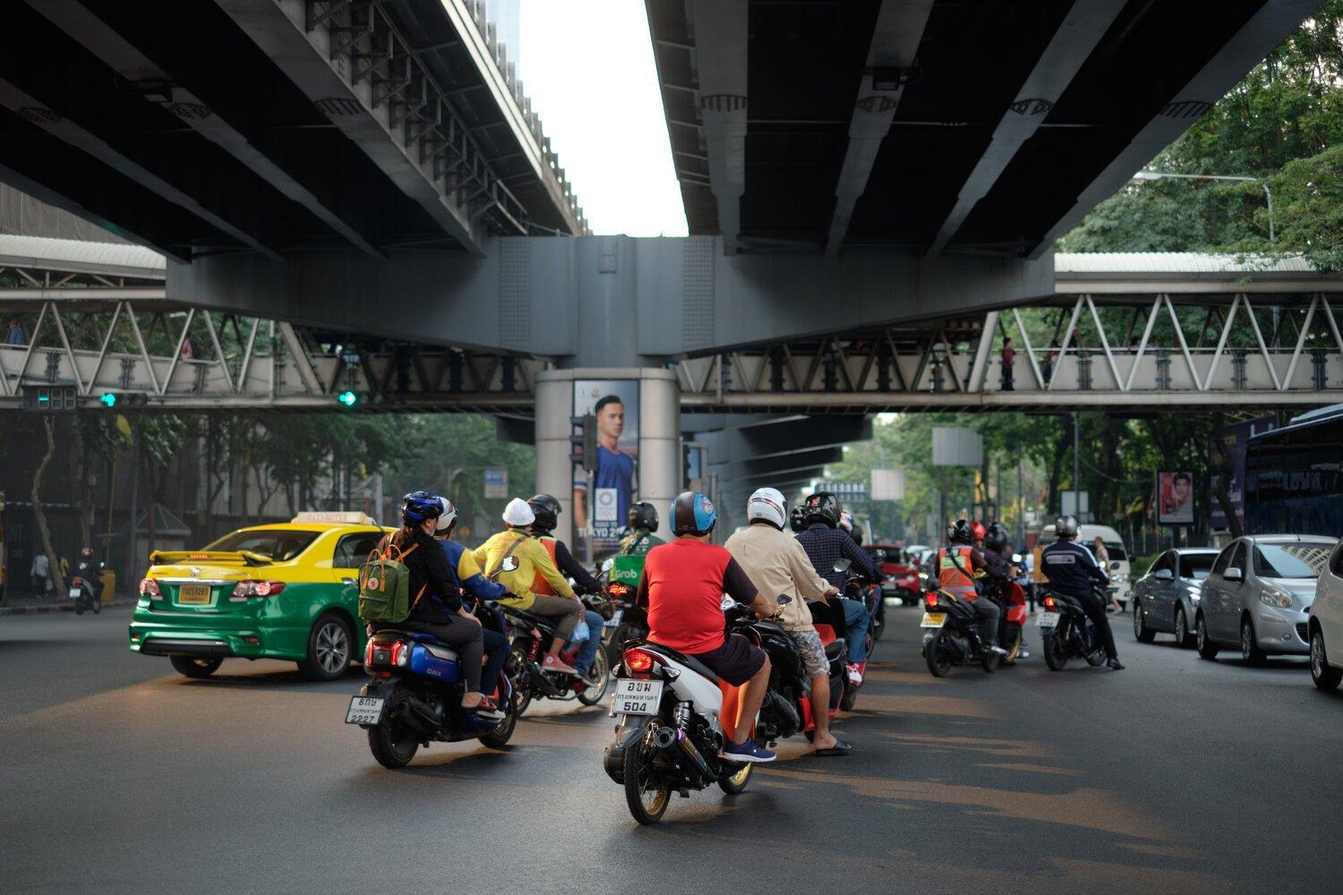helmet: (652, 477, 728, 557), (739, 477, 803, 534), (393, 486, 448, 538), (496, 489, 536, 534)
